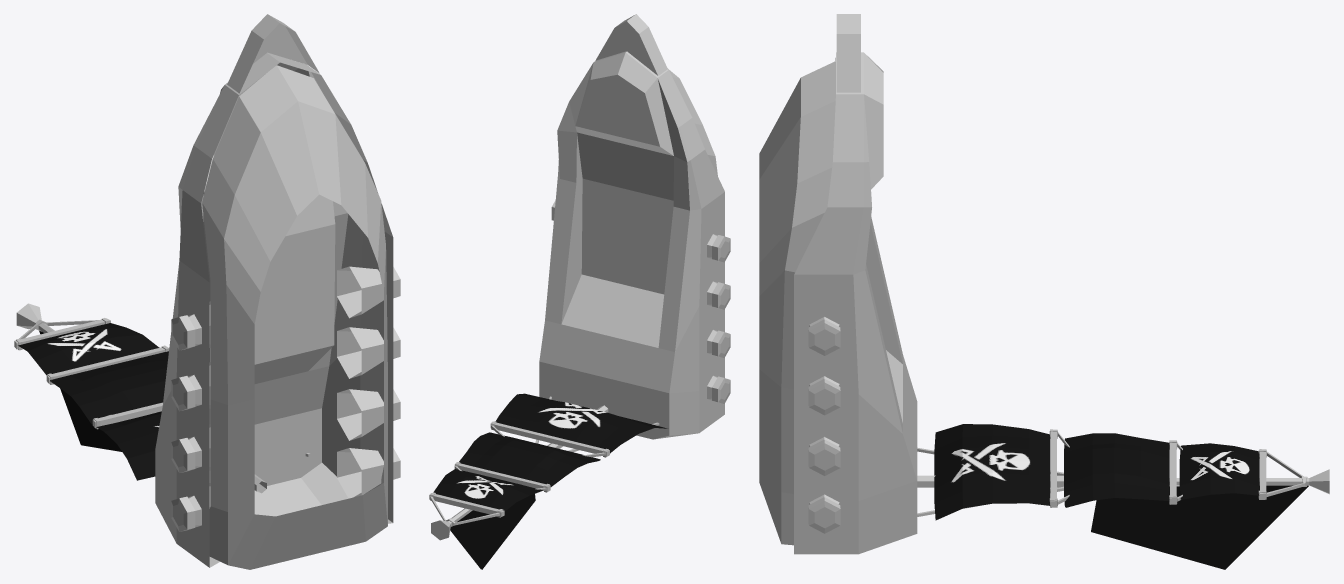
The model's file is pirate_basic_my_8.fbx.
3 views of the same model, side by side, from view 1: azimuth 30°, elevation 25°; view 2: azimuth 150°, elevation 25°; view 3: azimuth 270°, elevation 25° (orthographic). The views are drawn at different scales.
Visible parts, largest first — view 1: Cube.191; view 2: Cube.191; view 3: Cube.191.
Boxes of the visible parts, x1,y1,x2,y2 form: Cube.191: (14,14,400,569); Cube.191: (429,14,730,569); Cube.191: (759,14,1329,569).
Bounding box in the file's own units: 215 × 543 × 505.
